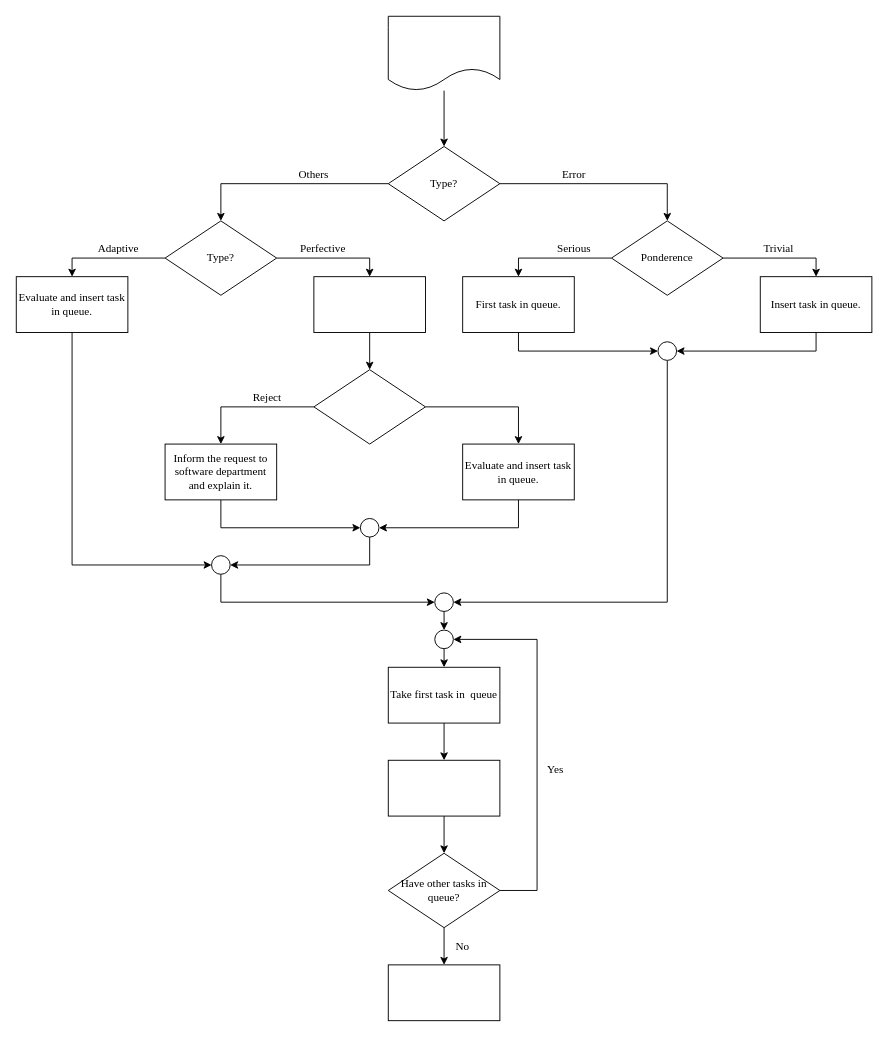
This 888x1037 diagram has some shape labels left out. The centre of each missing label's shape, as x and y in pixels:
Activity: the point at 369,406
Evaluate classify task.: the point at 369,304
Implement maintenance task: the point at 443,787
Request form: the point at 443,53
Waiting for new task: the point at 443,992
